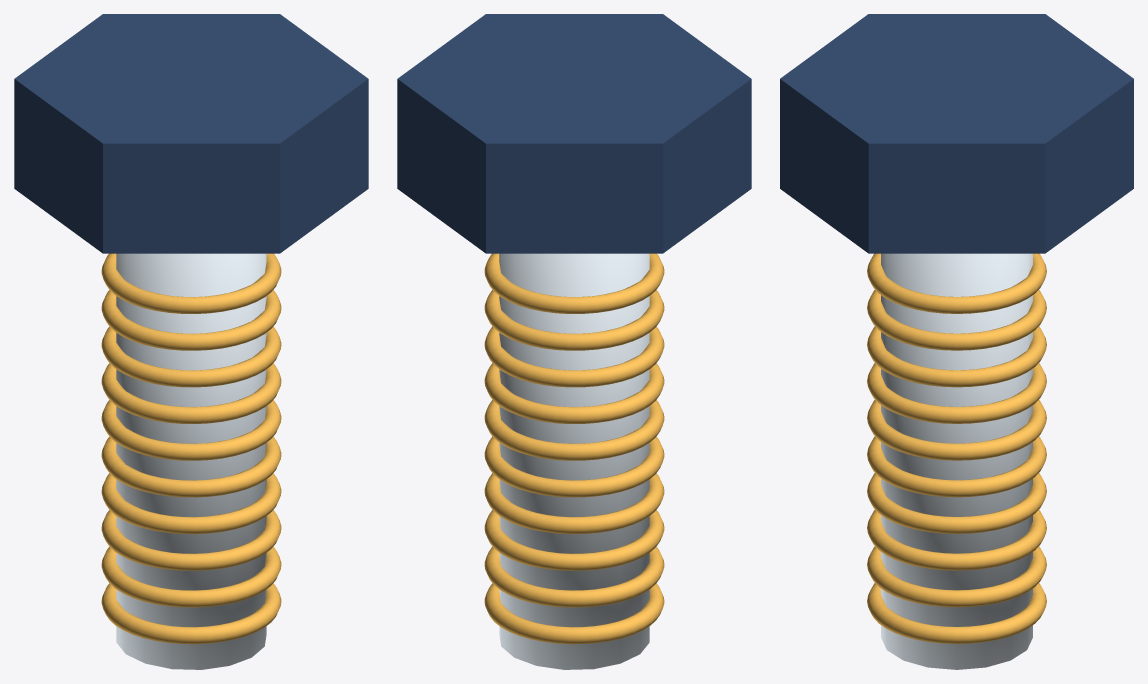
The model's file is hex-bolt-lite.glb.
3 renders of one model, left to right at view 1: azimuth 30°, elevation 25°; view 2: azimuth 150°, elevation 25°; view 3: azimuth 270°, elevation 25°, orthographic.
Visible parts, largest first — view 1: Hex head; view 2: Hex head; view 3: Hex head.
Part boxes in pixels (x1,y1,x2,y2): Hex head: (14,14,368,669); Hex head: (397,14,751,669); Hex head: (780,14,1133,669).
Size of the model in its own units: 0.6062 by 1.22 by 0.7.
